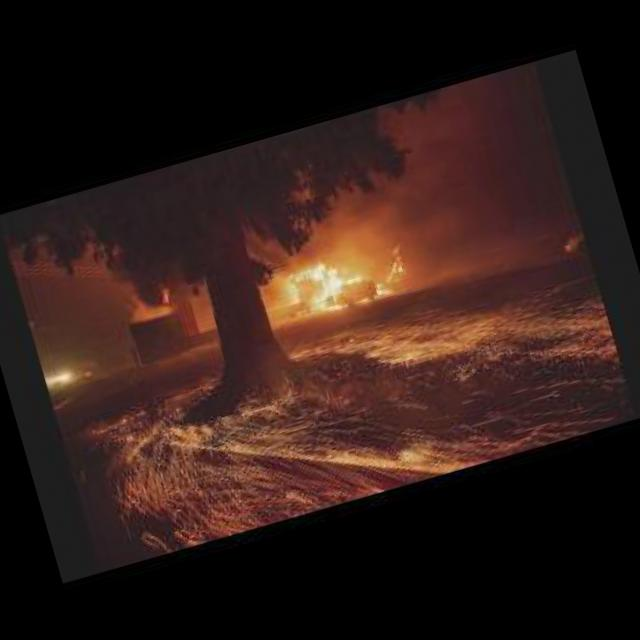fire: (284, 258, 346, 316), (378, 244, 412, 282), (344, 274, 364, 282), (376, 280, 384, 292)
